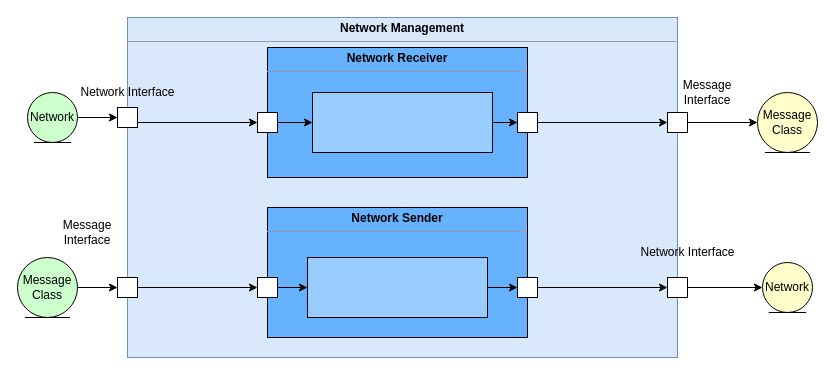
The diagram is 835 pixels wide and 375 high, and some of its shapes have lost their labels. The shapes that lost their labels are listed below. From the top down, each one's centre as x and y in pixels, then its label:
At point 402,122: "Forward the message to a handler".
At point 397,287: "Send the message on the Network".
